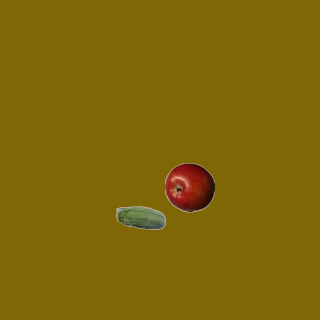Apple Braeburn: (164, 162, 214, 212)
Corn Husk: (115, 194, 165, 244)
